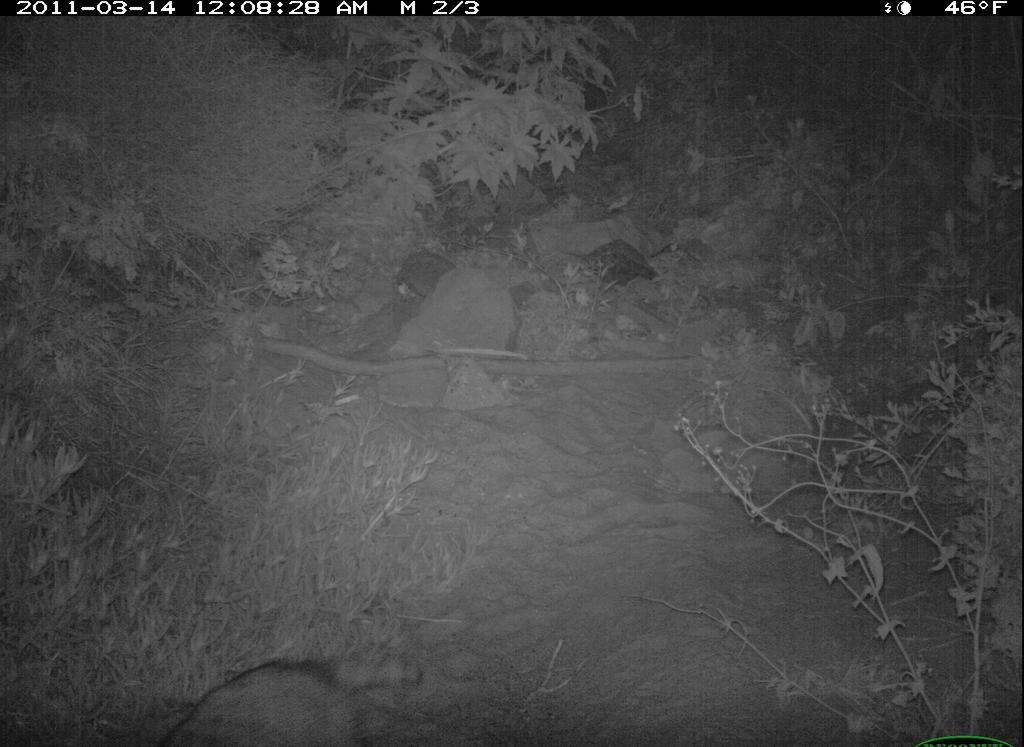raccoon: (157, 626, 434, 747)
